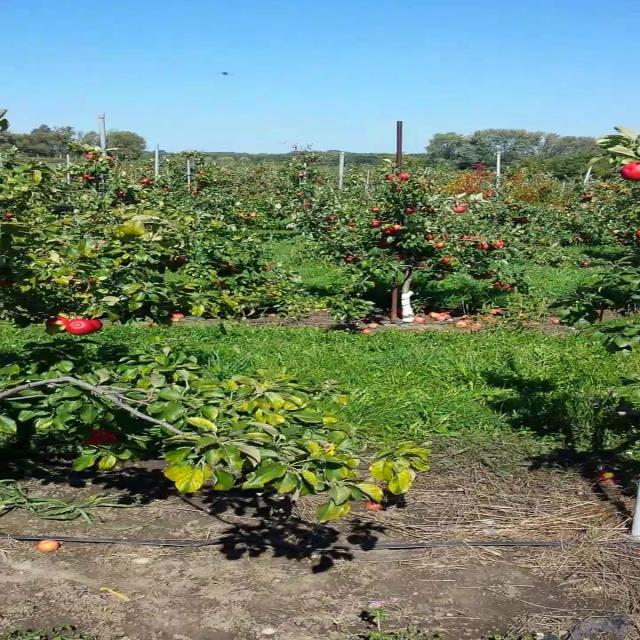apple: (84, 432, 121, 448), (70, 320, 94, 336), (49, 316, 71, 331), (49, 320, 71, 333), (163, 256, 187, 267), (625, 164, 639, 181), (92, 320, 107, 331), (6, 280, 16, 288)
